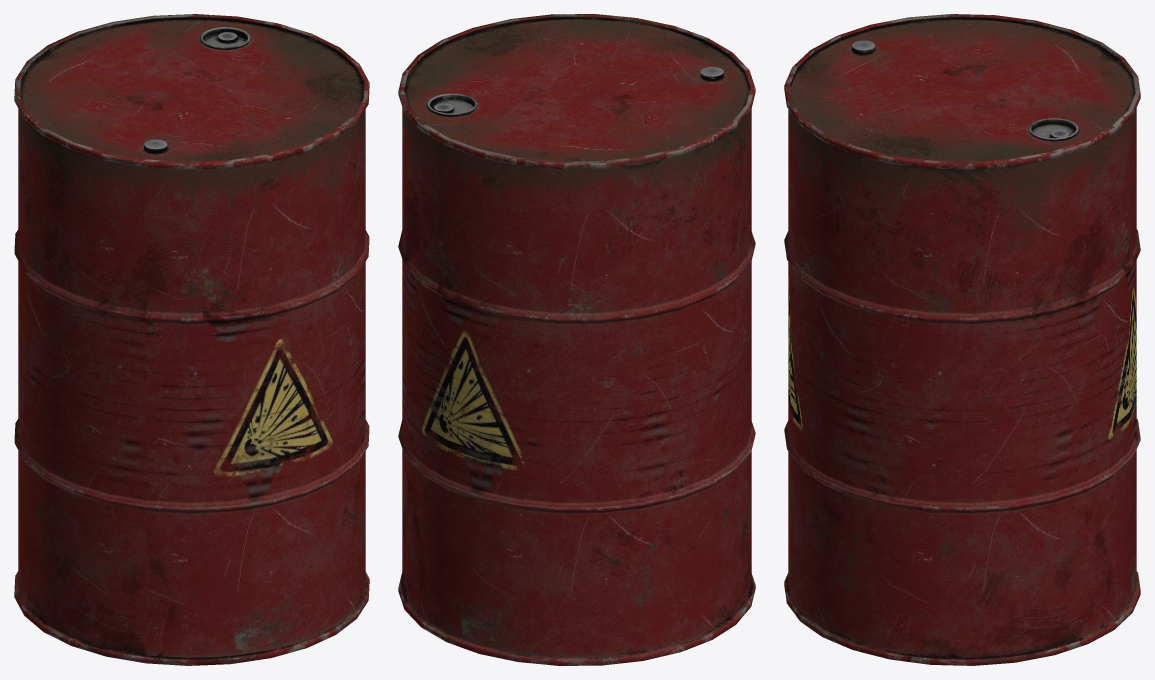
The model's file is ph_barrel_oil.gltf.
The picture shows the model from 3 angles, left to right: view 1: azimuth 30°, elevation 25°; view 2: azimuth 150°, elevation 25°; view 3: azimuth 270°, elevation 25°; orthographic projection.
Visible parts, largest first — view 1: Body; view 2: Body; view 3: Body.
Part boxes in pixels (left/top/right/bottom): Body: left=14, top=14, right=369, bottom=665; Body: left=398, top=14, right=755, bottom=665; Body: left=784, top=14, right=1140, bottom=665.
Bounding box in the file's own units: 0.563 × 0.88 × 0.563.
Materials: 1 (1 with a texture image).
